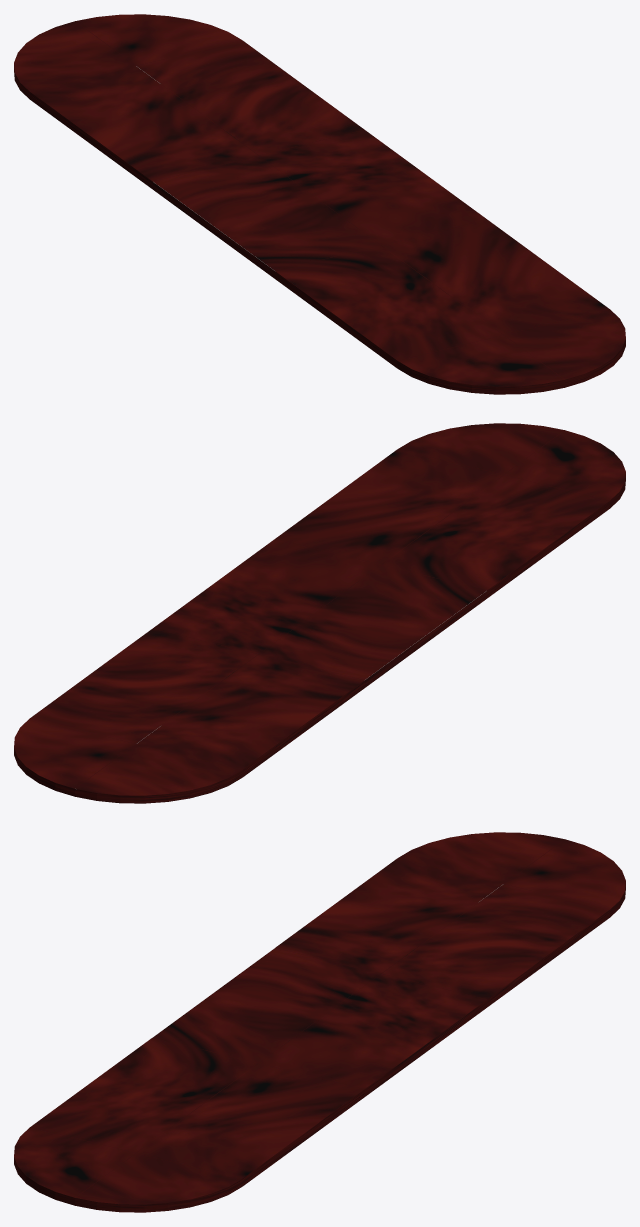
File: Laboratory.fbx
3 views of the same model, one above another, from view 1: azimuth 30°, elevation 25°; view 2: azimuth 150°, elevation 25°; view 3: azimuth 330°, elevation 25° (orthographic).
Visible parts, largest first — view 1: Circle.011; view 2: Circle.011; view 3: Circle.011.
Part boxes in pixels (x1,y1,x2,y2): Circle.011: (14, 14, 625, 394); Circle.011: (14, 423, 625, 803); Circle.011: (14, 832, 625, 1212).
Bounding box in the file's own units: 140 × 5 × 560.
